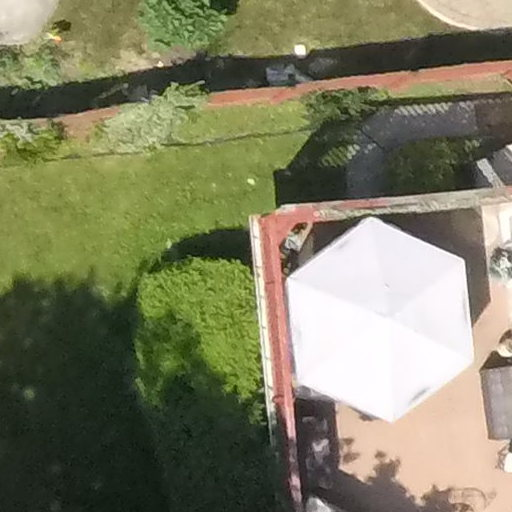porch: (223, 155, 511, 512)
umbrella: (262, 199, 499, 434)
